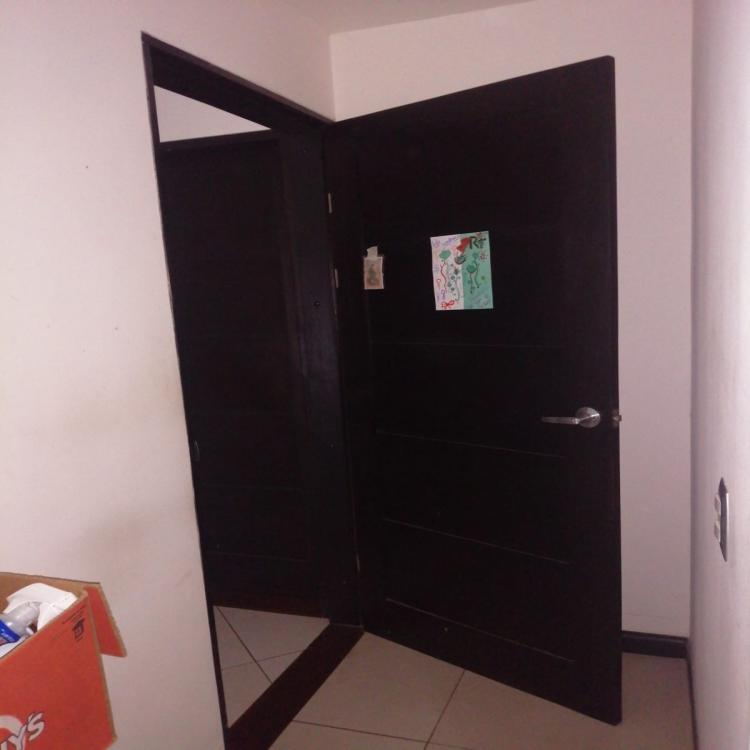OpenDoor: (126, 33, 396, 750)
